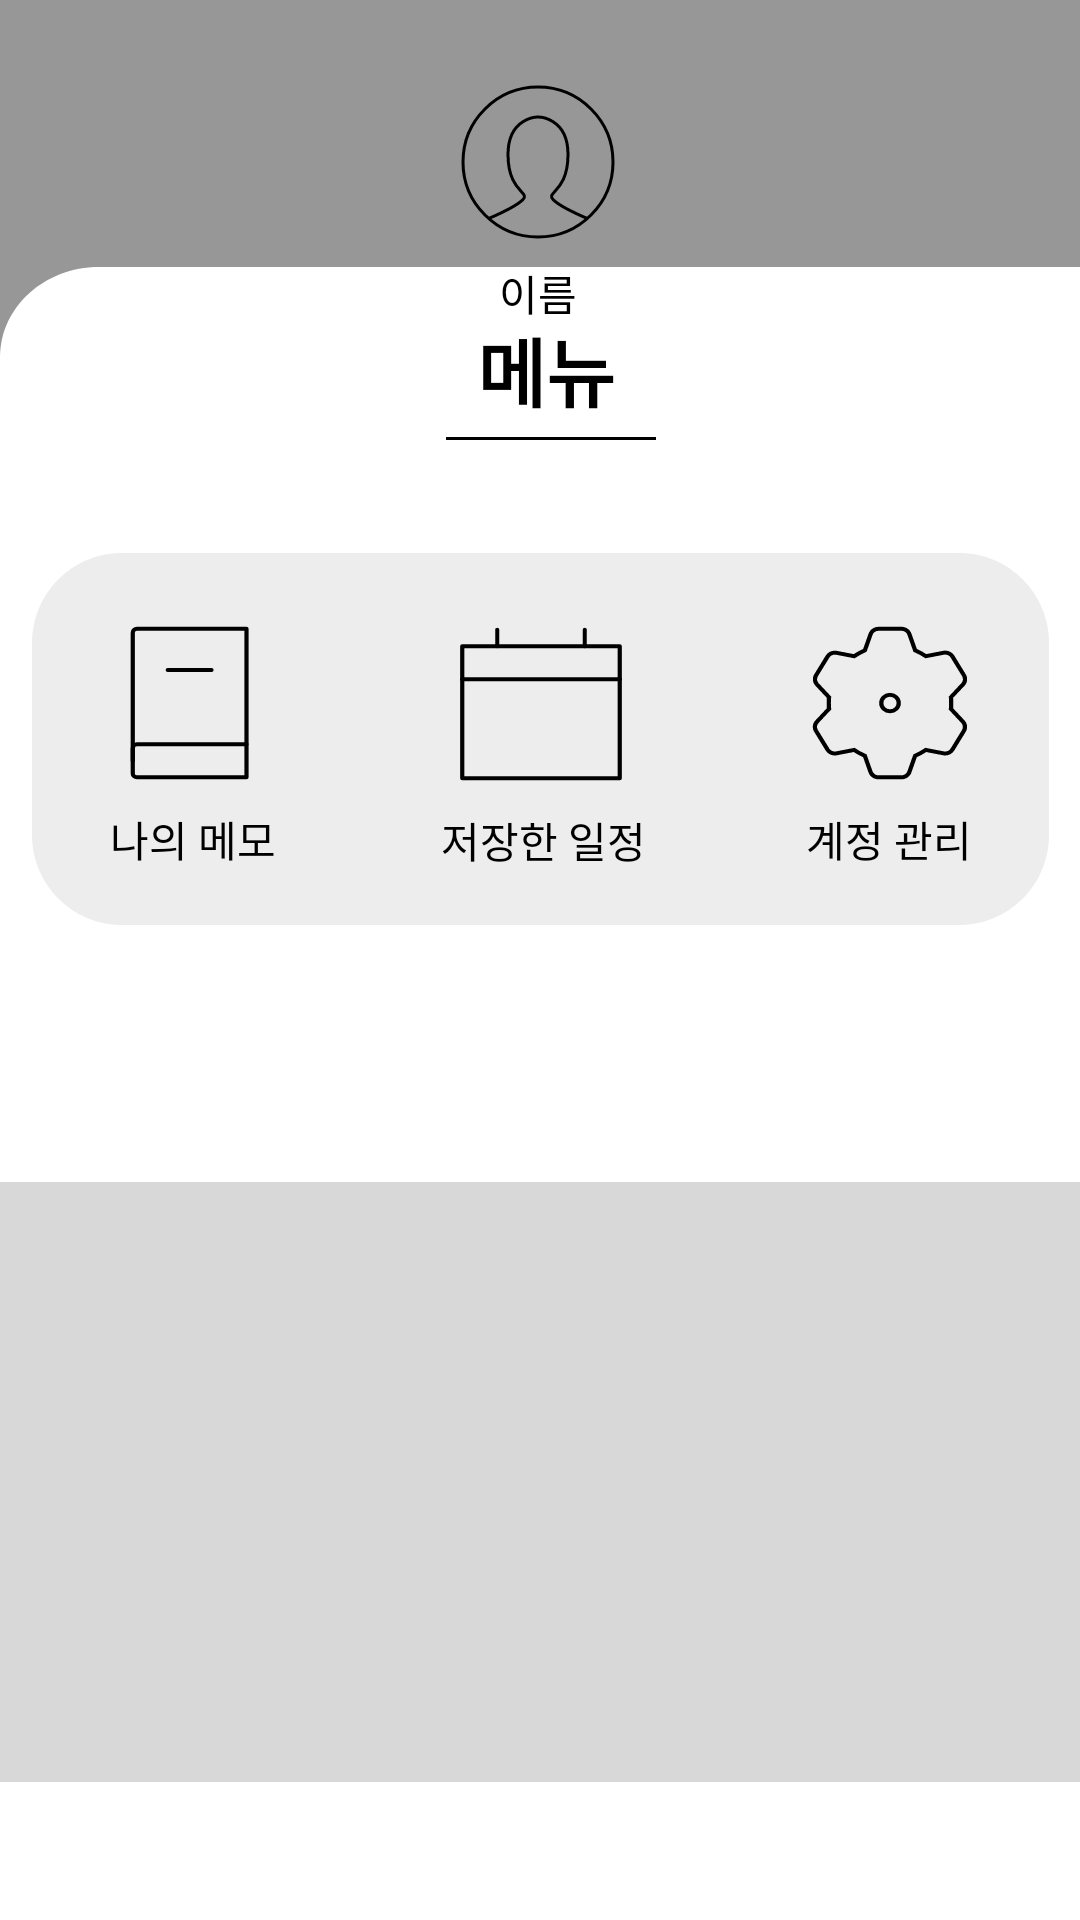

Named icons in this screenshot (1080 x 1920) and their bounding boxes, Rect(x1, y1, x2, y2):
calendar: Rect(460, 627, 622, 781)
profil: Rect(461, 85, 615, 239)
setting: Rect(812, 626, 967, 780)
